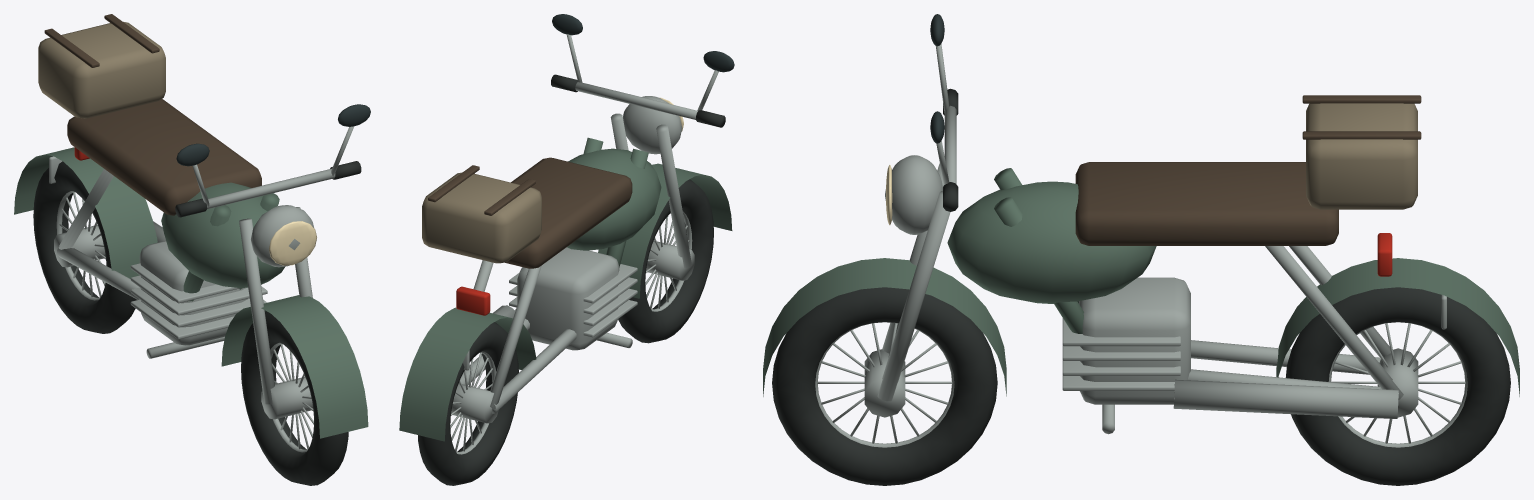
File: SM_TouringMotorbike.fbx
3 views of the same model, side by side, from view 1: azimuth 30°, elevation 25°; view 2: azimuth 150°, elevation 25°; view 3: azimuth 270°, elevation 25° (orthographic). The views are drawn at different scales.
Parts seen in each view (by area): view 1: SM_TouringMotorbike; view 2: SM_TouringMotorbike; view 3: SM_TouringMotorbike.
Part boxes in pixels (box(x1,y1,x2,y2)): SM_TouringMotorbike: box(14, 14, 370, 485); SM_TouringMotorbike: box(399, 14, 734, 485); SM_TouringMotorbike: box(763, 14, 1519, 485).
Bounding box in the file's own units: 84.4 × 141 × 230.
